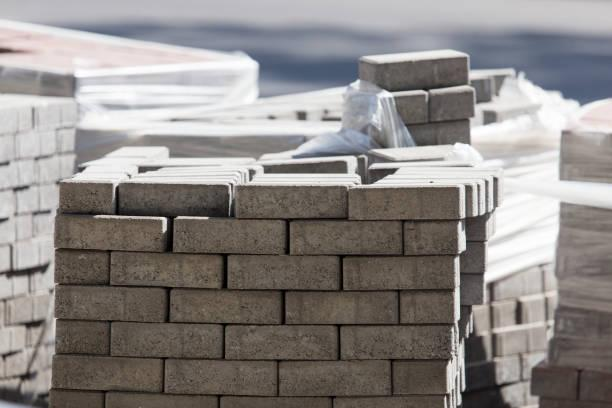Bricks: (162, 362, 278, 399), (110, 323, 226, 359), (57, 353, 162, 392), (112, 252, 224, 288), (280, 361, 395, 396), (225, 256, 343, 290), (57, 286, 168, 322), (173, 218, 287, 252), (168, 289, 280, 323), (341, 327, 453, 359), (292, 222, 403, 254), (285, 291, 399, 322), (56, 217, 164, 249), (347, 259, 455, 291), (119, 185, 229, 216), (227, 327, 341, 356), (381, 56, 469, 93), (349, 190, 458, 219), (235, 187, 345, 215), (362, 48, 467, 67), (491, 266, 543, 304), (395, 361, 448, 397), (55, 251, 109, 285), (82, 155, 255, 165), (58, 323, 111, 355), (59, 182, 113, 213), (405, 222, 457, 254), (400, 291, 453, 322), (431, 91, 474, 125), (106, 395, 218, 408), (530, 370, 579, 397), (385, 95, 428, 124), (334, 398, 447, 408), (394, 167, 503, 177), (223, 399, 332, 408), (579, 372, 611, 401), (434, 121, 469, 147), (121, 180, 231, 188), (269, 163, 347, 174), (52, 392, 104, 408), (58, 172, 127, 184), (370, 161, 471, 169), (355, 57, 378, 92), (403, 127, 437, 149), (350, 182, 474, 188), (131, 176, 232, 183), (522, 354, 547, 382), (138, 173, 237, 180), (495, 359, 522, 383), (385, 173, 491, 179), (109, 146, 166, 157), (520, 299, 546, 323), (498, 333, 525, 355), (523, 329, 550, 351), (542, 264, 562, 293), (501, 383, 525, 407), (373, 179, 483, 184), (13, 248, 38, 270), (9, 302, 32, 324), (163, 166, 262, 171), (495, 306, 518, 327), (84, 165, 137, 174), (152, 170, 247, 175), (18, 136, 39, 158), (37, 106, 60, 125), (34, 296, 52, 319), (1, 109, 17, 134), (17, 163, 33, 187), (32, 273, 51, 293), (39, 191, 56, 213), (18, 108, 34, 131), (17, 191, 33, 214), (59, 104, 78, 123), (11, 275, 30, 294), (8, 356, 27, 375), (28, 351, 47, 370), (486, 178, 496, 214), (1, 167, 18, 188), (0, 193, 14, 218), (40, 162, 58, 181), (0, 222, 16, 243), (39, 136, 57, 154), (35, 217, 52, 235), (17, 218, 32, 238), (59, 132, 74, 151), (0, 246, 10, 274), (0, 137, 12, 160), (478, 183, 486, 217), (31, 327, 46, 345), (60, 158, 73, 178), (39, 242, 52, 262), (497, 175, 505, 207), (0, 276, 12, 297), (11, 330, 23, 351), (459, 186, 466, 220), (0, 329, 10, 352), (472, 186, 478, 216), (0, 358, 6, 380), (0, 302, 5, 328), (49, 348, 54, 362)
